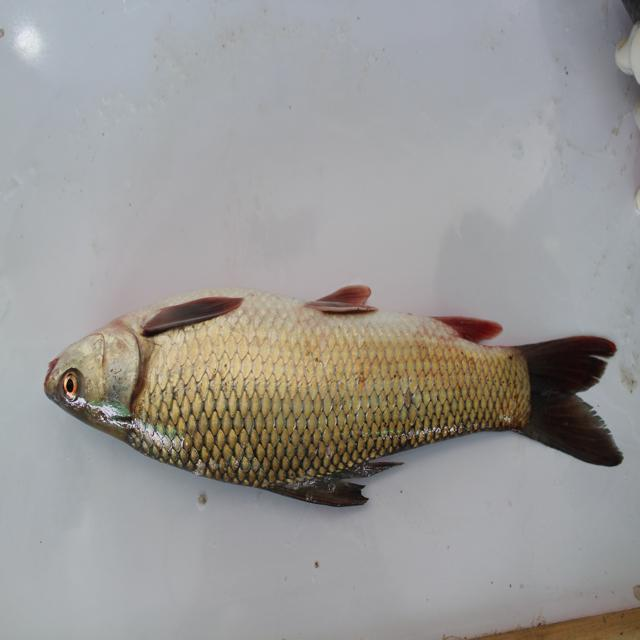Mori: (48, 262, 640, 519)
